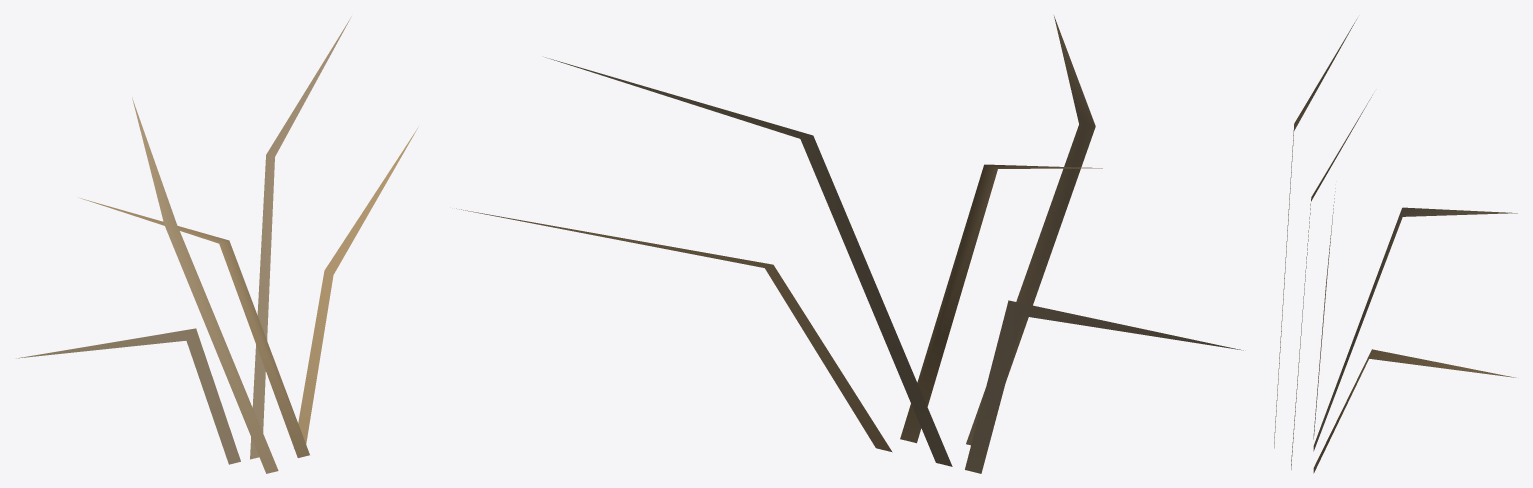
File: Grass_h_OneS_04.fbx
3 views of the same model, side by side, from view 1: azimuth 30°, elevation 25°; view 2: azimuth 150°, elevation 25°; view 3: azimuth 270°, elevation 25° (orthographic). The views are drawn at different scales.
Visible parts, largest first — view 1: Grass_h_OneS_04; view 2: Grass_h_OneS_04; view 3: Grass_h_OneS_04.
Part boxes in pixels (x1,y1,x2,y2): Grass_h_OneS_04: (16, 16, 418, 473); Grass_h_OneS_04: (456, 16, 1243, 473); Grass_h_OneS_04: (1274, 18, 1517, 473).
Size of the model in its own units: 56.27 by 40.32 by 23.34.
